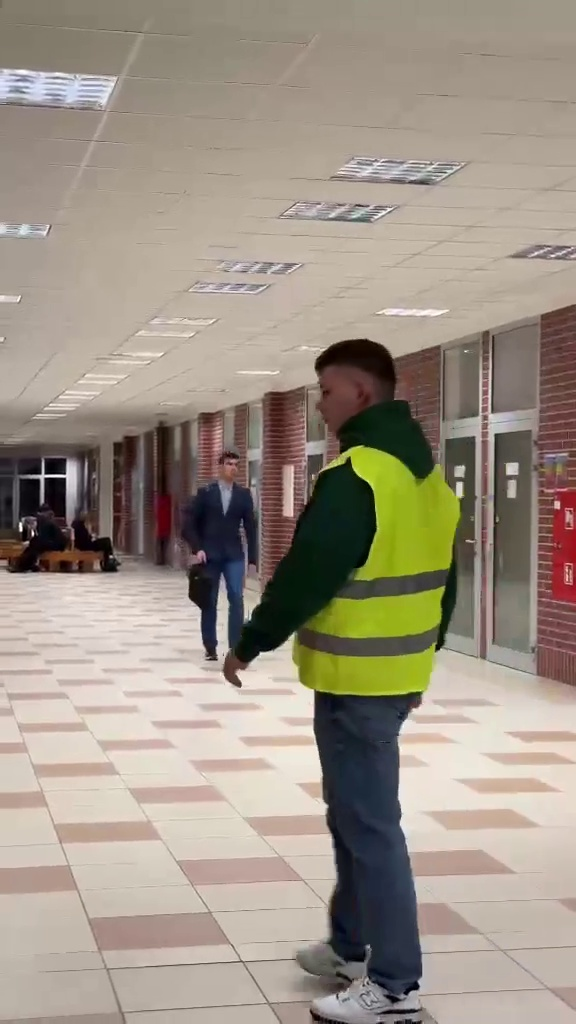no vest: (178, 446, 261, 656)
vest: (256, 335, 464, 1018)
